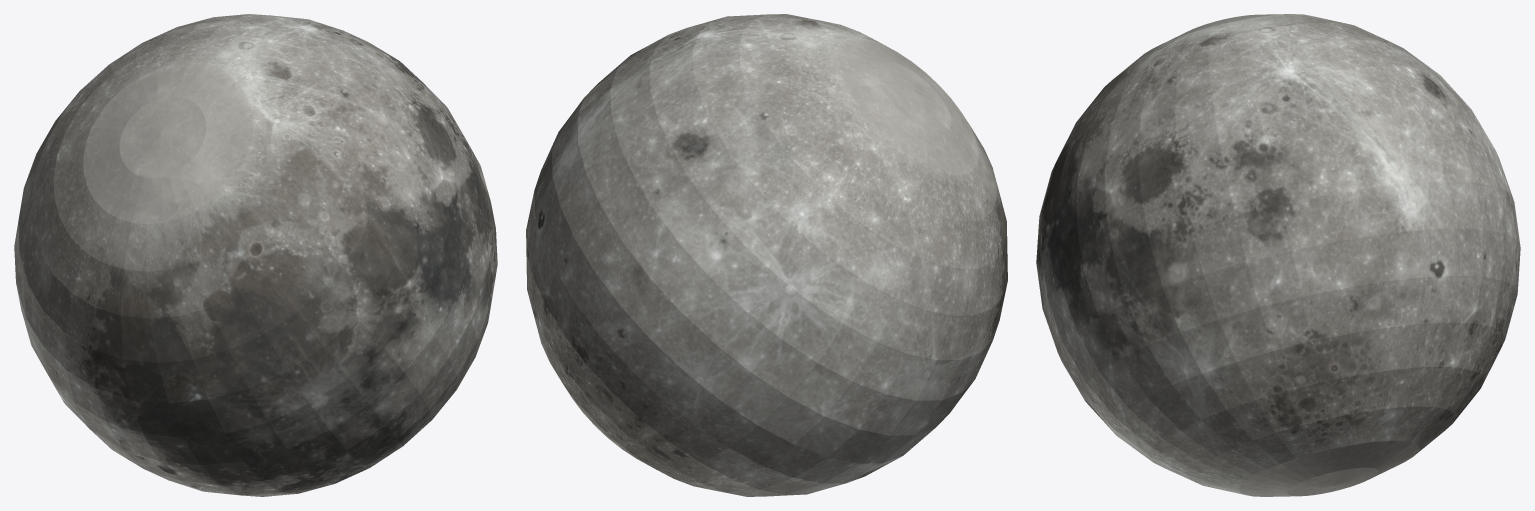
Rendered from moon.glb.
3 views of the same model, side by side, from view 1: azimuth 30°, elevation 25°; view 2: azimuth 150°, elevation 25°; view 3: azimuth 270°, elevation 25° (orthographic).
Parts seen in each view (by area): view 1: Moon; view 2: Moon; view 3: Moon.
Boxes of the visible parts, x1,y1,x2,y2 form: Moon: (14,14,497,496); Moon: (526,14,1007,496); Moon: (1036,14,1520,496).
Size of the model in its own units: 2 by 1.99 by 2.
Materials: 1 (1 with a texture image).
